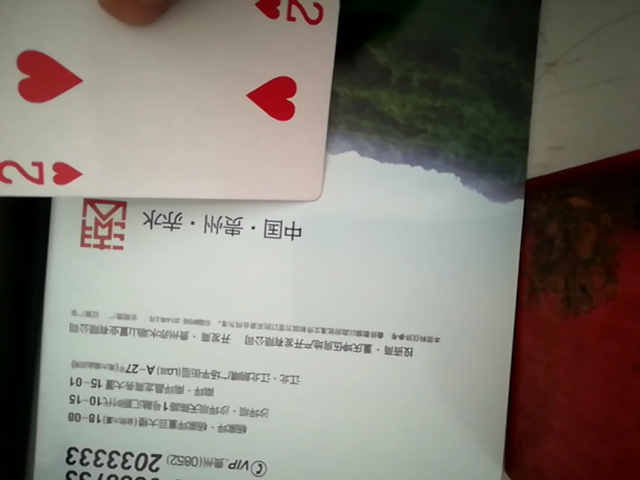hx 2: (2, 0, 344, 206)
